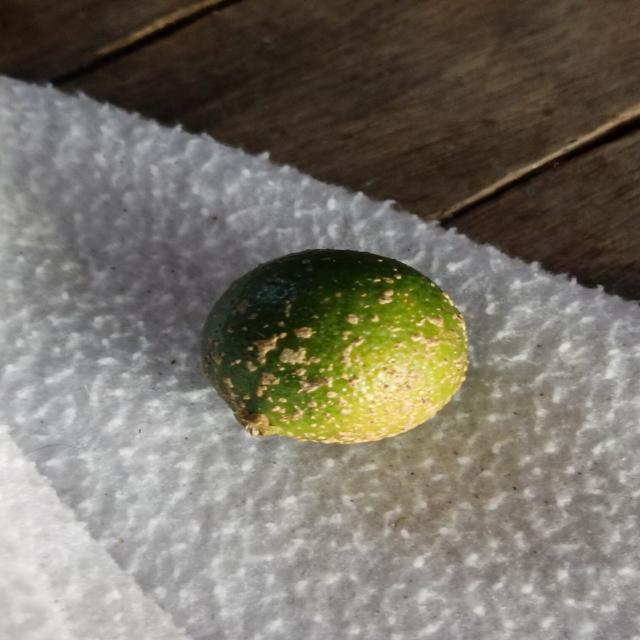scab: (203, 248, 474, 447)
